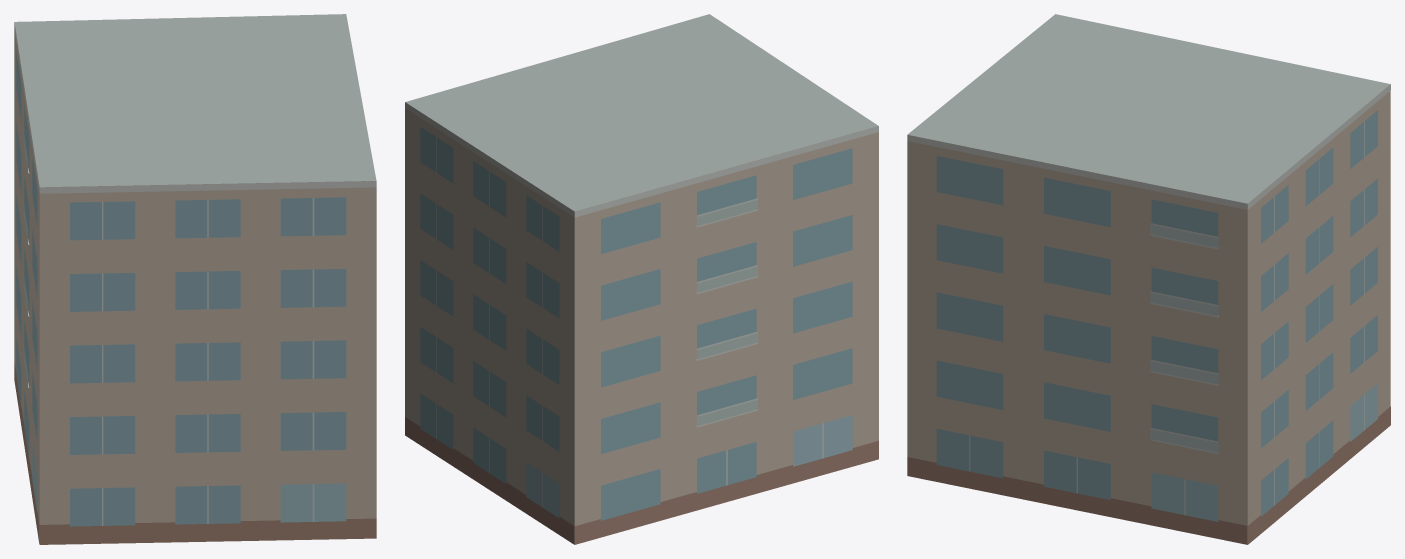
Rendered from survey-upis-32541953.glb.
The picture shows the model from 3 angles, left to right: view 1: azimuth 30°, elevation 25°; view 2: azimuth 150°, elevation 25°; view 3: azimuth 270°, elevation 25°; orthographic projection. The views are drawn at different scales.
Parts seen in each view (by area): view 1: survey-upis-32541953.tmp; view 2: survey-upis-32541953.tmp; view 3: survey-upis-32541953.tmp.
Boxes of the visible parts, x1,y1,x2,y2 form: survey-upis-32541953.tmp: (14, 14, 376, 544); survey-upis-32541953.tmp: (405, 14, 878, 544); survey-upis-32541953.tmp: (907, 14, 1390, 544).
Size of the model in its own units: 15.93 by 13.35 by 17.16.
